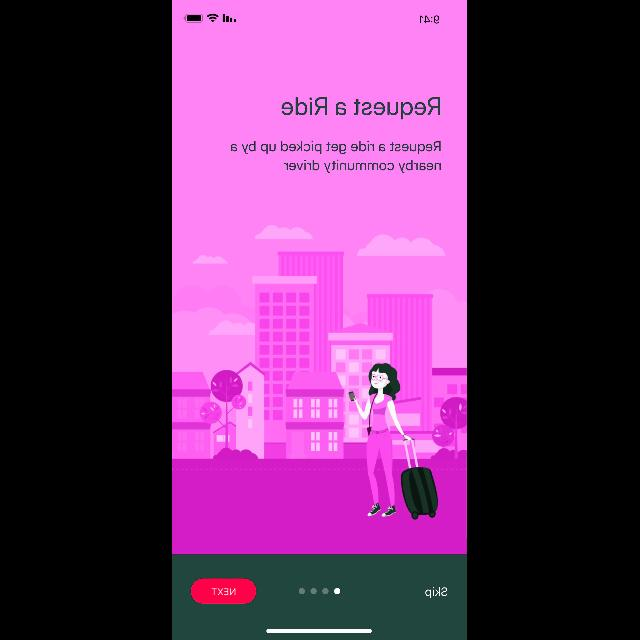image: (172, 225, 468, 521)
pageindicator: (299, 588, 341, 594)
text: (231, 141, 441, 173), (283, 96, 442, 120), (426, 586, 448, 598)
textbutton: (191, 578, 257, 604)
uppertaskbar: (184, 14, 440, 24)
